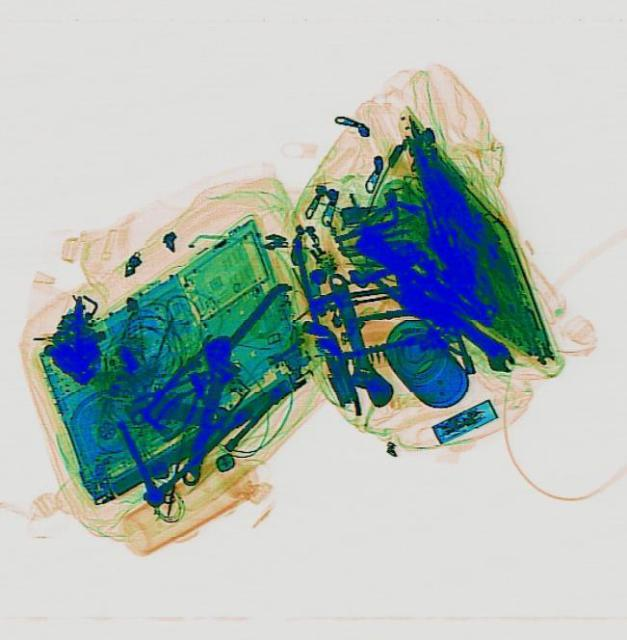Pliers: (140, 370, 217, 444)
Wrench: (167, 332, 246, 488), (314, 268, 396, 412), (122, 386, 230, 436), (446, 311, 521, 377)
